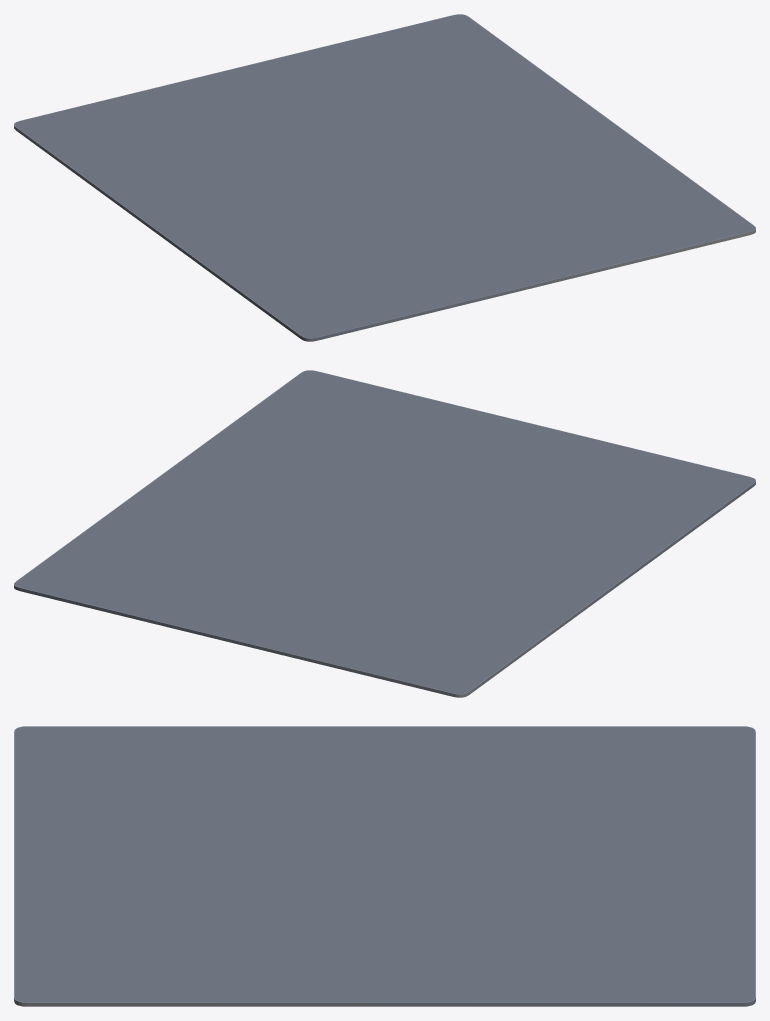
File: anden-parque.FBX
The picture shows the model from 3 angles, top to bottom: view 1: azimuth 30°, elevation 25°; view 2: azimuth 150°, elevation 25°; view 3: azimuth 270°, elevation 25°; orthographic projection. The views are drawn at different scales.
Visible parts, largest first — view 1: Box001; view 2: Box001; view 3: Box001.
Part boxes in pixels (x1,y1,x2,y2): Box001: [14, 14, 755, 341]; Box001: [14, 370, 755, 697]; Box001: [14, 726, 755, 1006].
Bounding box in the file's own units: 3000 × 3400 × 20.
